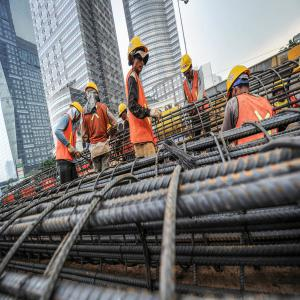yellow: (228, 65, 252, 99), (129, 39, 150, 74), (69, 102, 84, 126), (181, 56, 194, 81), (86, 83, 99, 102), (119, 105, 128, 122)
